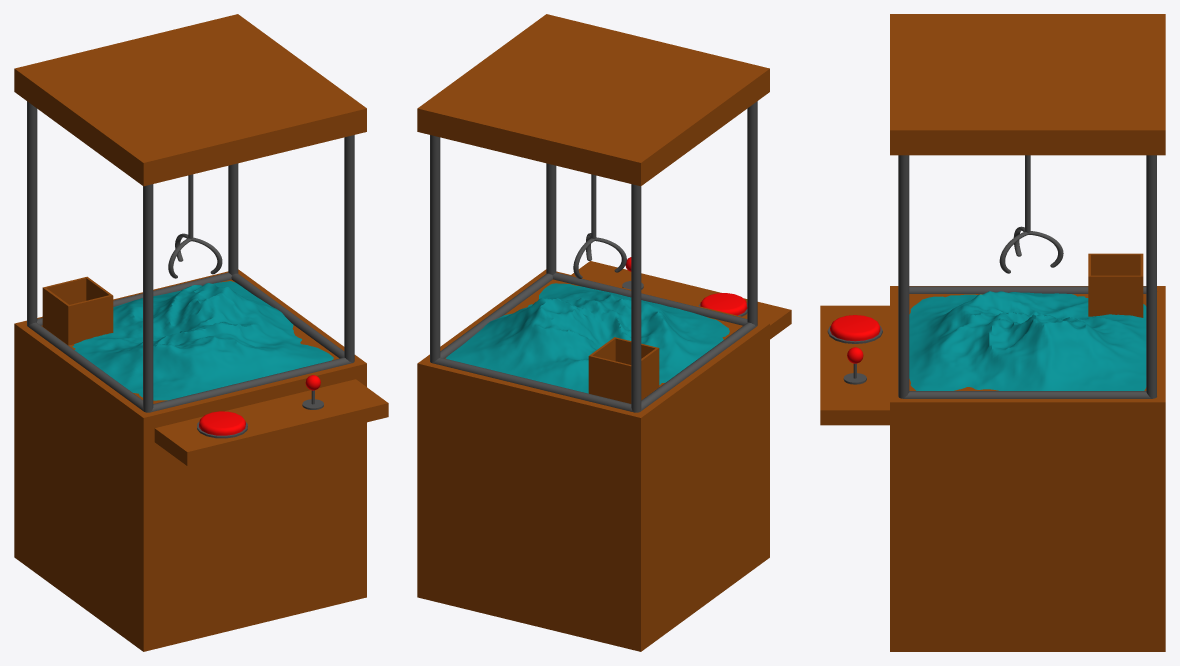
Rendered from Grapling.fbx.
The picture shows the model from 3 angles, left to right: view 1: azimuth 30°, elevation 25°; view 2: azimuth 150°, elevation 25°; view 3: azimuth 270°, elevation 25°; orthographic projection. The views are drawn at different scales.
Visible parts, largest first — view 1: Sphere; view 2: Sphere; view 3: Sphere.
Part boxes in pixels (<box>): Sphere: <box>14,14,388,651</box>; Sphere: <box>417,14,791,651</box>; Sphere: <box>820,14,1165,651</box>.
Bounding box in the file's own units: 50 × 104 × 62.64.
